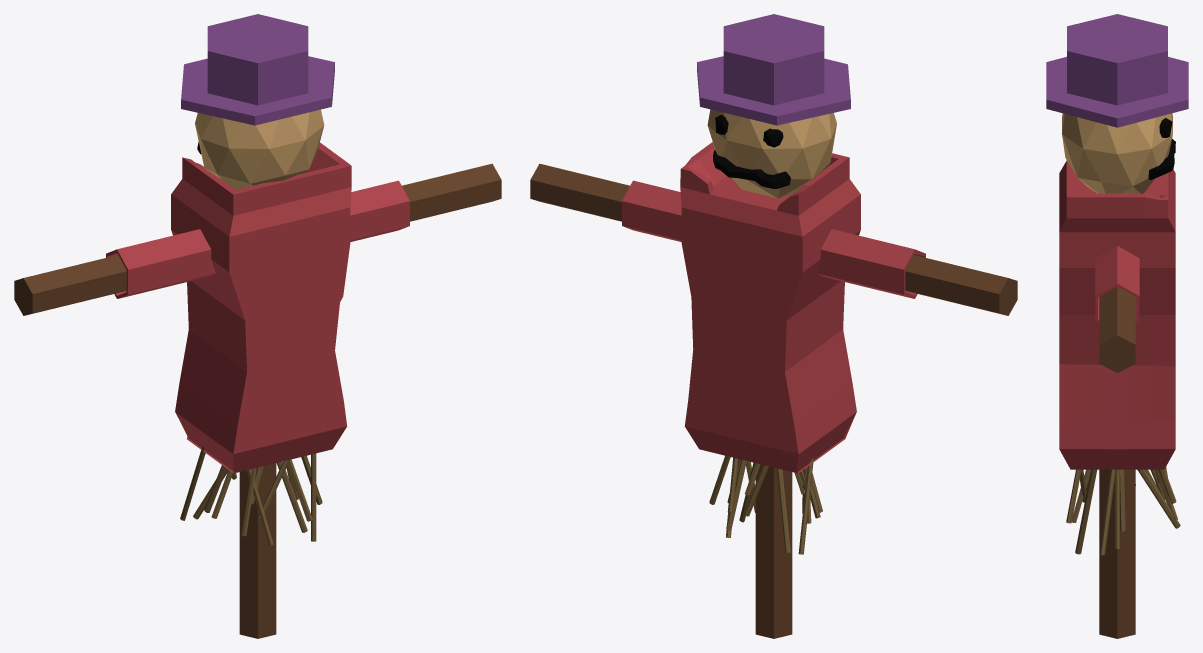
Rendered from Scarecrow update.glb.
3 views of the same model, side by side, from view 1: azimuth 30°, elevation 25°; view 2: azimuth 150°, elevation 25°; view 3: azimuth 270°, elevation 25° (orthographic).
Parts seen in each view (by area): view 1: Cube; view 2: Cube; view 3: Cube.
Part boxes in pixels (box(x1,y1,x2,y2)): Cube: box(14, 14, 501, 638); Cube: box(530, 14, 1017, 638); Cube: box(1046, 14, 1188, 638).
Bounding box in the file's own units: 1.42 × 1.71 × 0.3733.
